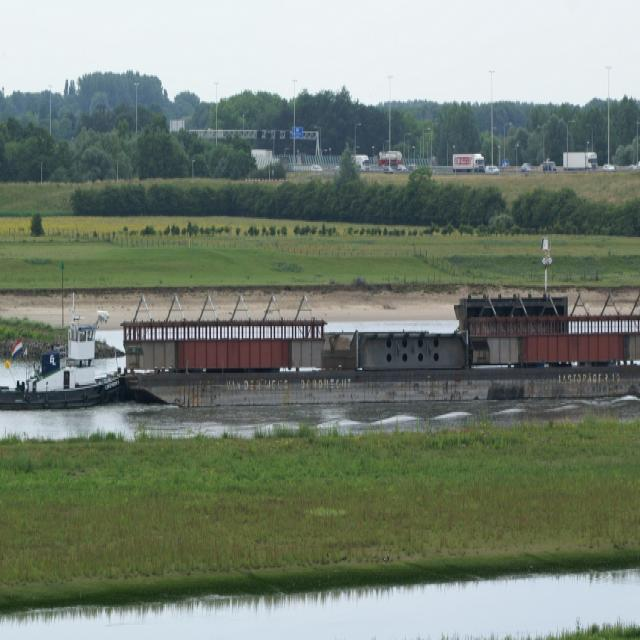tugboat: (1, 285, 162, 421)
